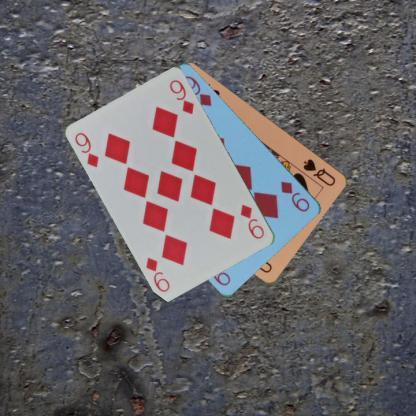9d: (72, 130, 101, 170), (278, 179, 312, 213), (237, 202, 266, 240)
Qs: (300, 156, 338, 187)
